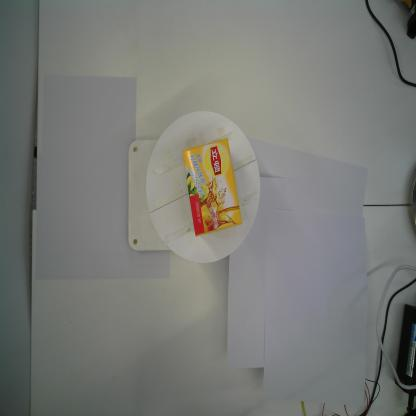Instant Drink: (182, 136, 244, 239)
